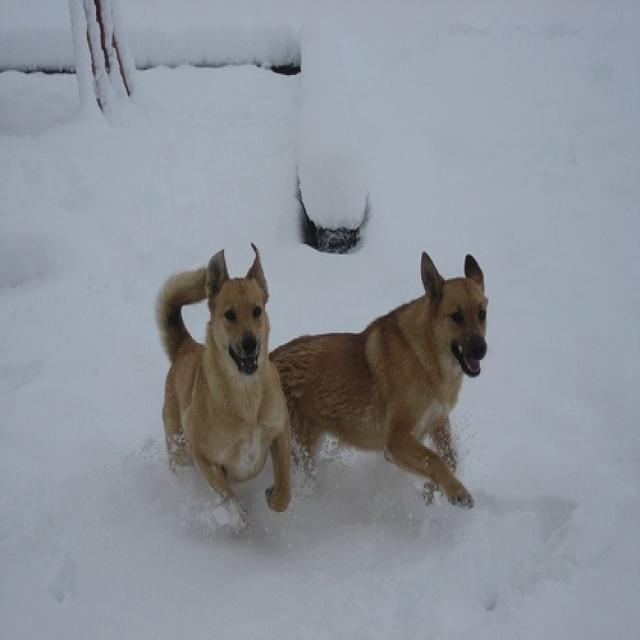dog: (270, 249, 488, 510), (154, 242, 293, 520)
